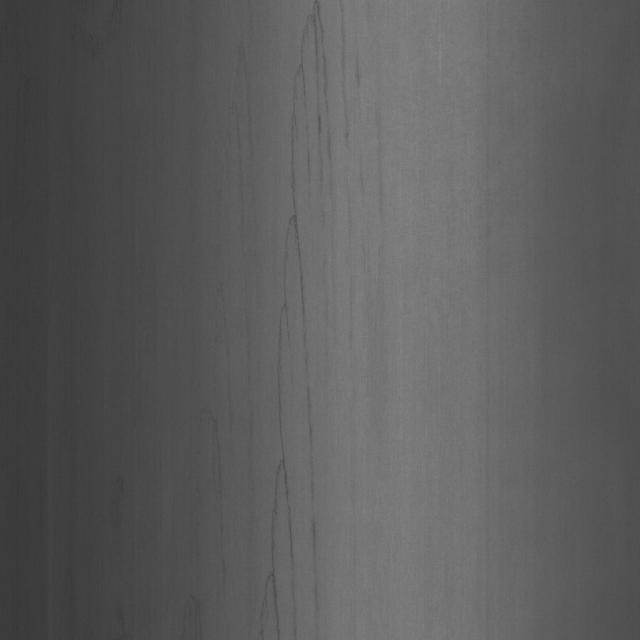water_spot: (233, 18, 394, 623)
